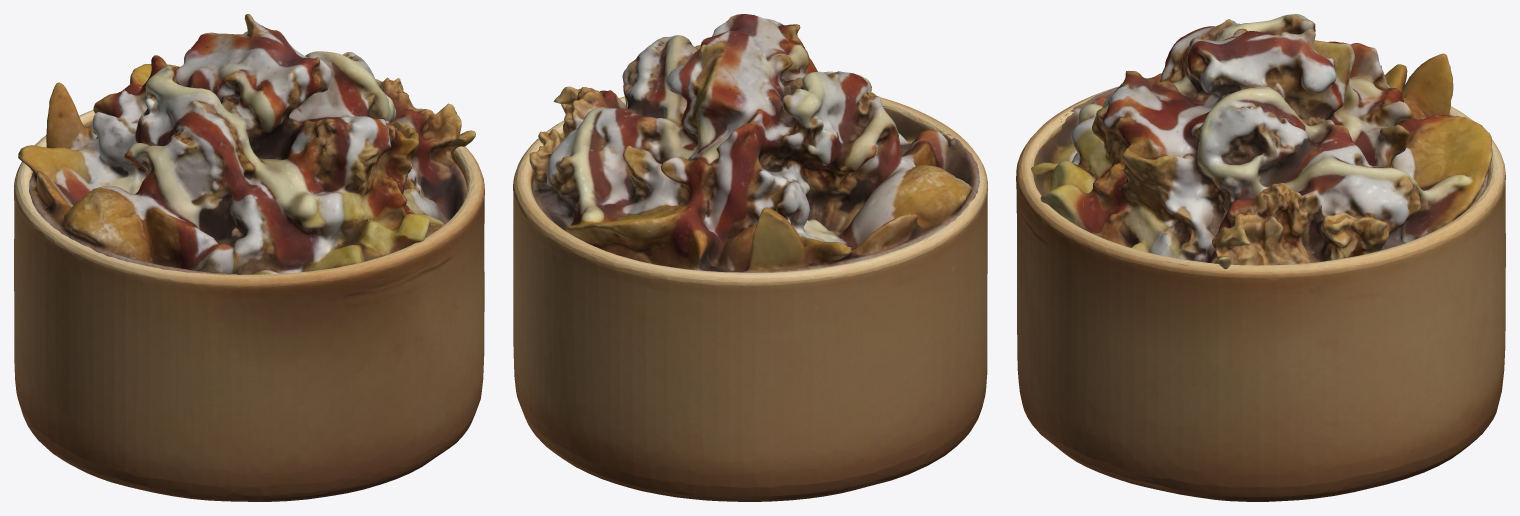
File: mix.strip.sausy.glb
3 views of the same model, side by side, from view 1: azimuth 30°, elevation 25°; view 2: azimuth 150°, elevation 25°; view 3: azimuth 270°, elevation 25° (orthographic). The views are drawn at different scales.
Parts seen in each view (by area): view 1: world, 3DModel.001; view 2: world, 3DModel.001; view 3: world, 3DModel.001.
Boxes of the visible parts, left/top/right/bottom form: world: left=14, top=110, right=484, bottom=501; 3DModel.001: left=18, top=14, right=475, bottom=274; world: left=513, top=96, right=987, bottom=501; 3DModel.001: left=529, top=14, right=979, bottom=272; world: left=1016, top=86, right=1505, bottom=501; 3DModel.001: left=1031, top=14, right=1492, bottom=268.
Bounding box in the file's own units: 0.204 × 0.1794 × 0.2029.
Materials: 2 (2 with a texture image).
